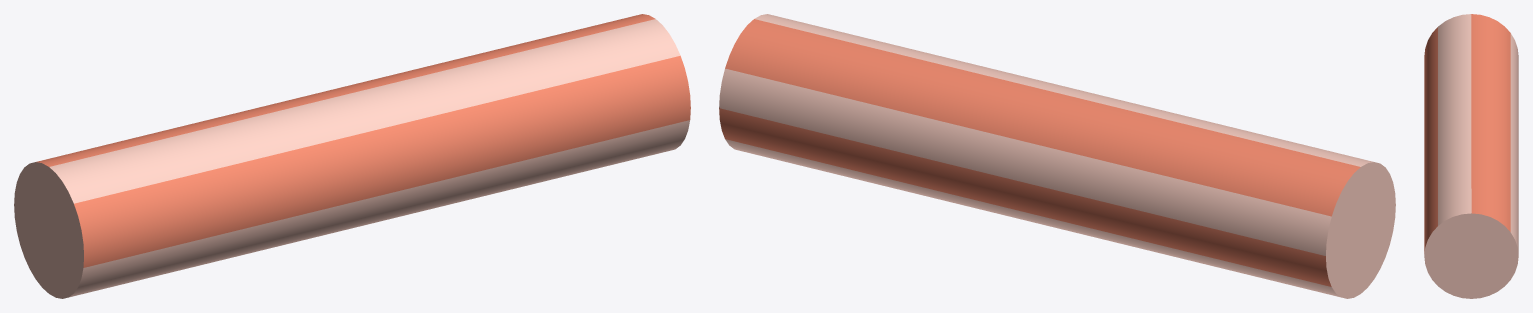
Rendered from BaseFloorMedium.fbx.
3 views of the same model, side by side, from view 1: azimuth 30°, elevation 25°; view 2: azimuth 150°, elevation 25°; view 3: azimuth 270°, elevation 25° (orthographic). The views are drawn at different scales.
Visible parts, largest first — view 1: BaseFloorMedium; view 2: BaseFloorMedium; view 3: BaseFloorMedium.
Part boxes in pixels (bbox=[...]): BaseFloorMedium: bbox=[14, 14, 690, 298]; BaseFloorMedium: bbox=[719, 14, 1395, 298]; BaseFloorMedium: bbox=[1424, 14, 1518, 298].
Bounding box in the file's own units: 10 × 2 × 2.
Materials: 1 (1 with a texture image).
